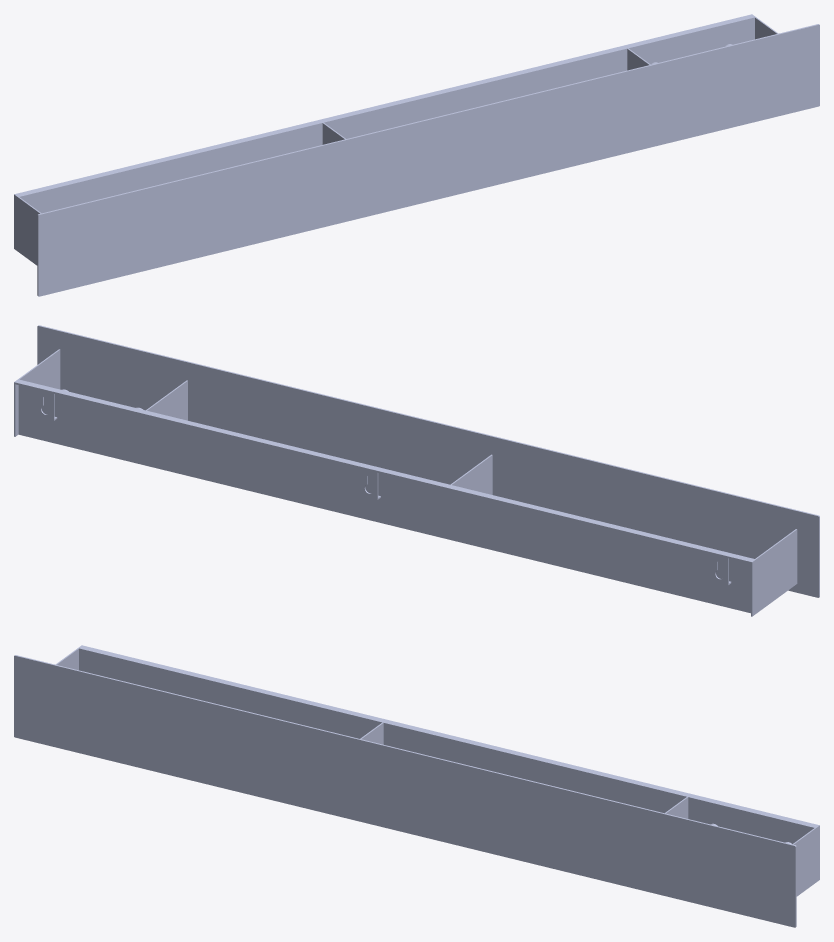
The model's file is skyline-patron.a2c3f439a1.glb.
3 views of the same model, one above another, from view 1: azimuth 30°, elevation 25°; view 2: azimuth 150°, elevation 25°; view 3: azimuth 330°, elevation 25° (orthographic).
Visible parts, largest first — view 1: NAUO1; view 2: NAUO1; view 3: NAUO1.
Boxes of the visible parts, left/top/right/bottom form: NAUO1: left=14, top=14, right=819, bottom=296; NAUO1: left=14, top=325, right=819, bottom=616; NAUO1: left=14, top=645, right=819, bottom=927.
Size of the model in its own units: 0.9 by 0.09 by 0.092.
